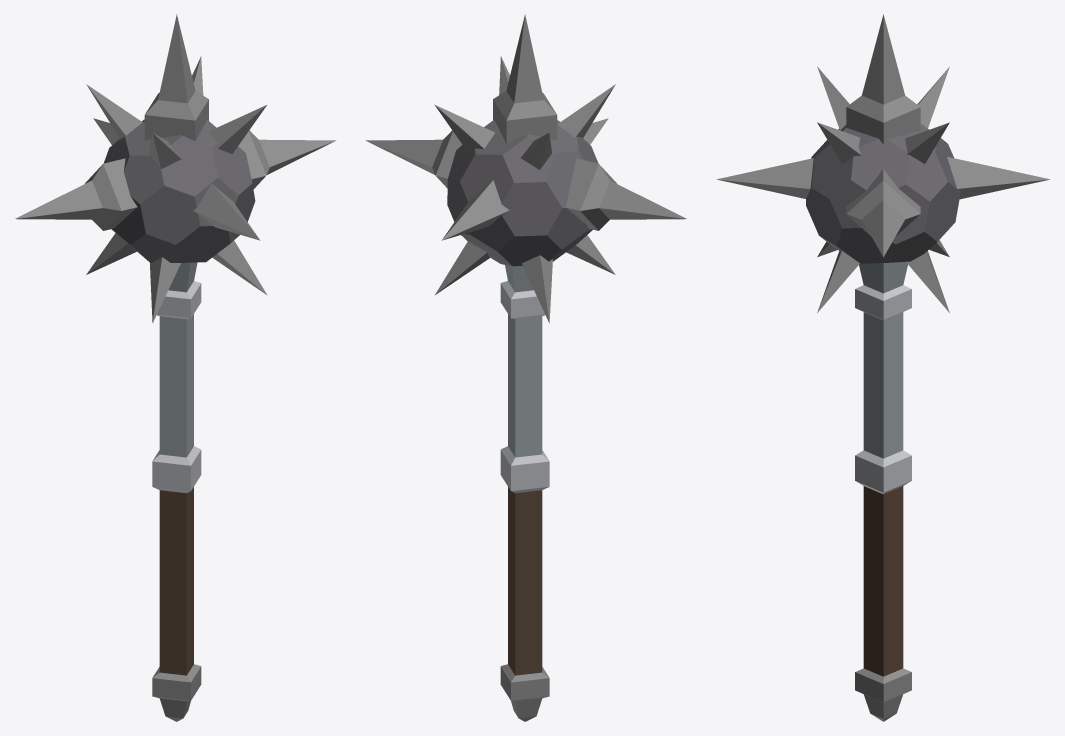
The model's file is Mace_3.fbx.
3 renders of one model, left to right at view 1: azimuth 30°, elevation 25°; view 2: azimuth 150°, elevation 25°; view 3: azimuth 270°, elevation 25°, orthographic.
Visible parts, largest first — view 1: polySurface358; view 2: polySurface358; view 3: polySurface358.
Part boxes in pixels (x1=…): polySurface358: x1=15, y1=14, x2=336, y2=721; polySurface358: x1=365, y1=14, x2=686, y2=721; polySurface358: x1=716, y1=14, x2=1050, y2=721.
Bounding box in the file's own units: 113 × 236 × 101.
